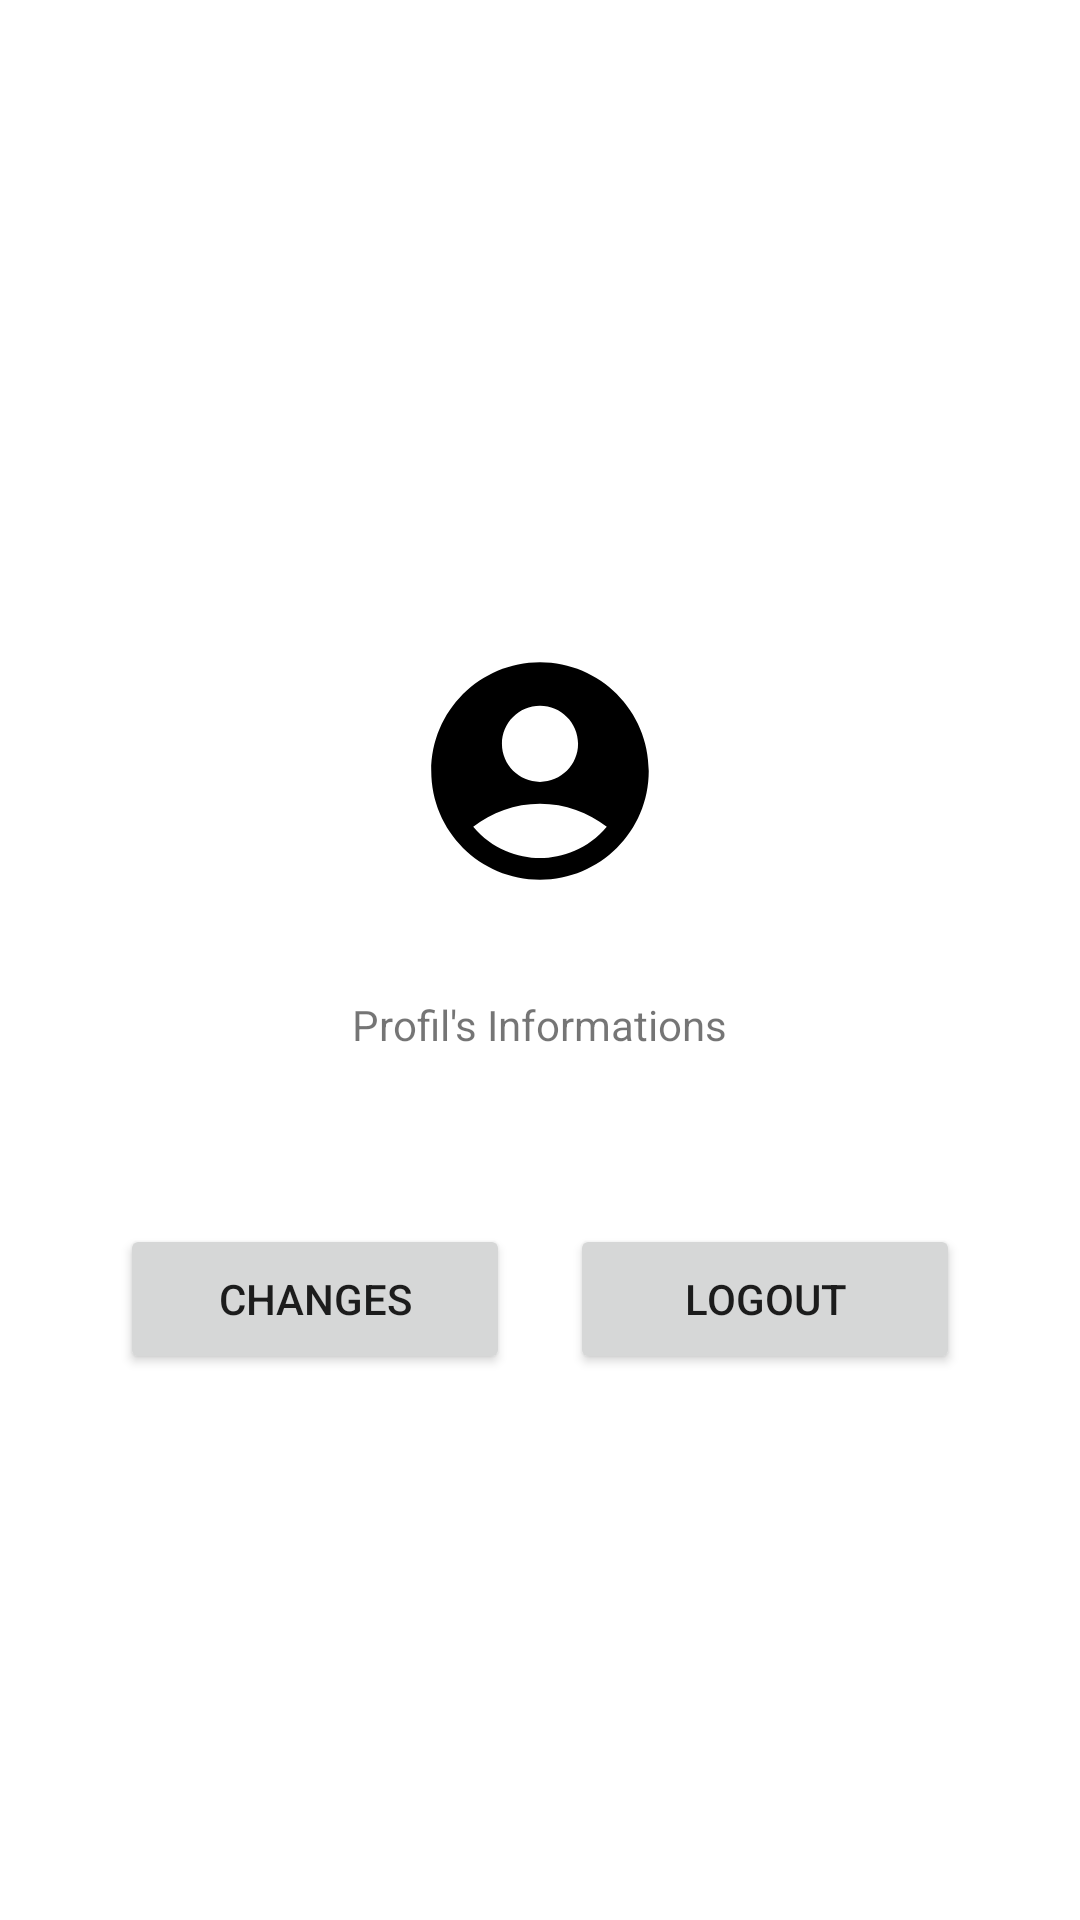

Icons on this 1080w x 1920h Android screen, each with the point to tap as (x,y):
account picture: (540,771)
